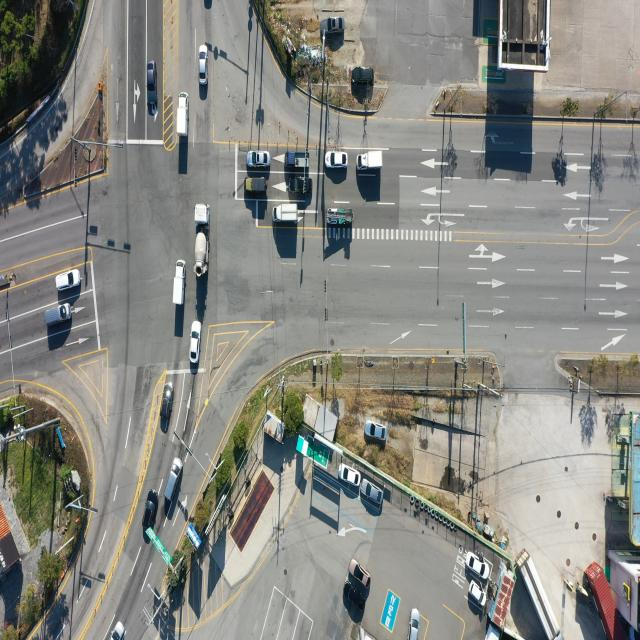car: (342, 582, 370, 618), (164, 458, 183, 504), (45, 303, 71, 327), (159, 382, 173, 426), (147, 60, 158, 115), (469, 553, 490, 581), (144, 490, 158, 532), (351, 562, 372, 589), (56, 270, 80, 292), (340, 464, 362, 486), (468, 580, 485, 608), (189, 321, 200, 364), (363, 482, 384, 504), (364, 422, 386, 441), (244, 177, 268, 194), (288, 177, 312, 194), (351, 68, 375, 85), (327, 151, 349, 168), (250, 150, 272, 166), (410, 609, 421, 640), (200, 47, 208, 85), (326, 18, 344, 34), (112, 622, 127, 640), (205, 0, 213, 11)
medium_truck: (519, 546, 562, 638), (196, 202, 210, 276)
small_truck: (172, 258, 185, 306), (273, 203, 300, 223), (176, 91, 188, 136), (358, 152, 384, 172), (328, 204, 354, 223), (285, 154, 309, 170)
